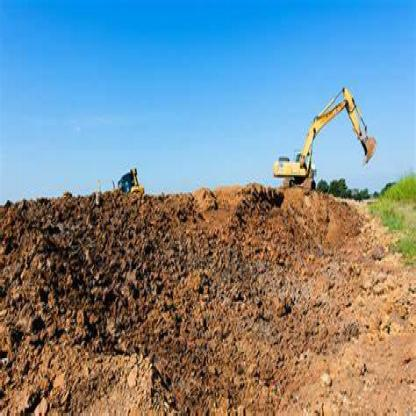excavator: (268, 78, 384, 208)
